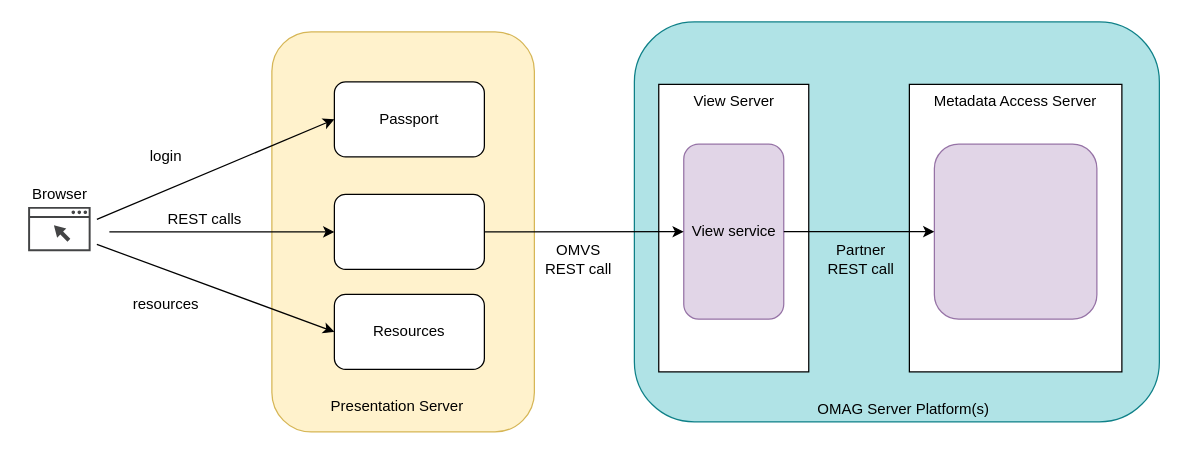
The diagram is 1181 pixels wide and 454 high, and some of its shapes have lost their labels. Each missing label, with the centre of its shape:
Partner Service: (1015,231)
proxy REST call to view service: (408,231)
